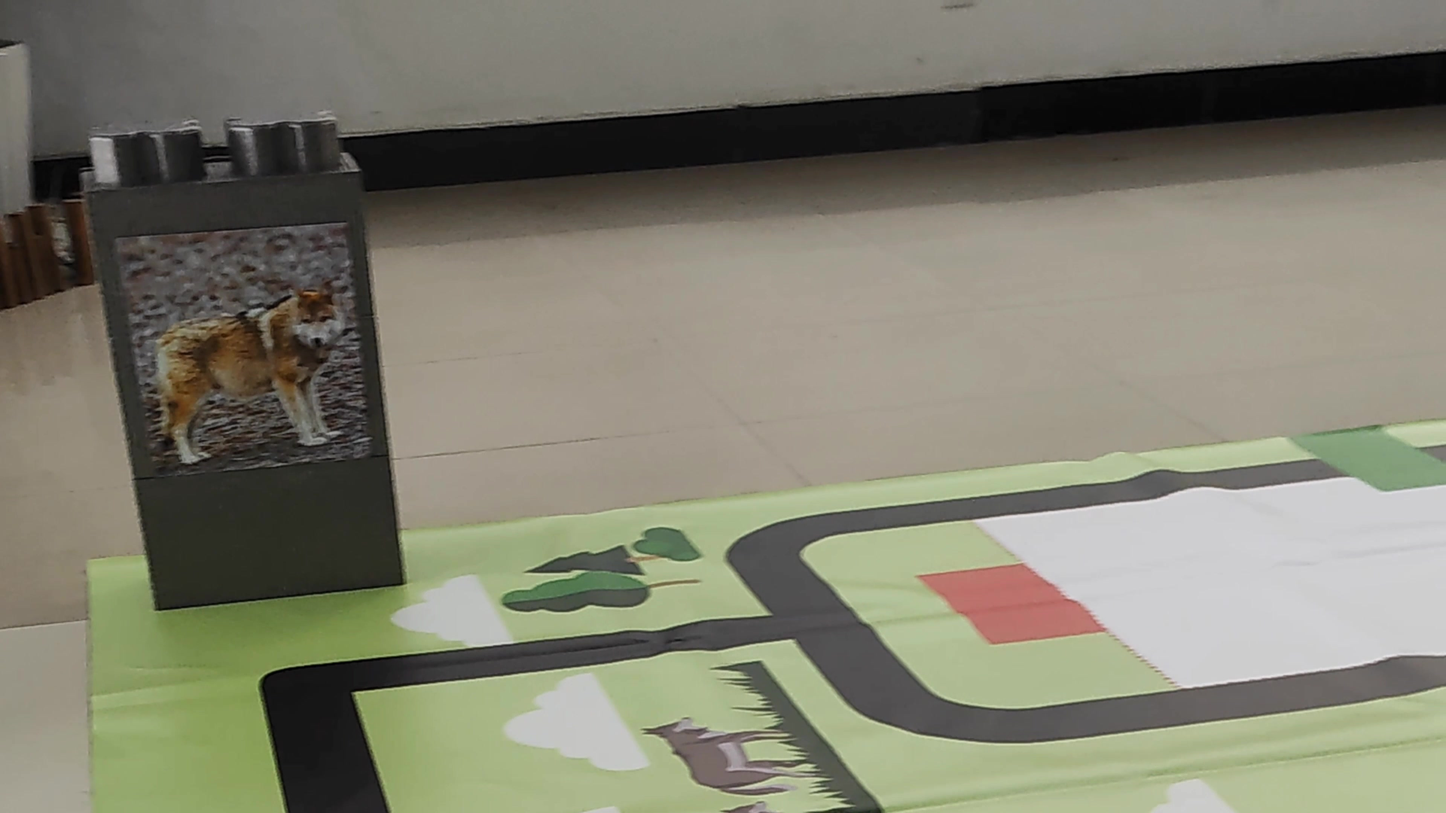wolf: (147, 272, 358, 467)
